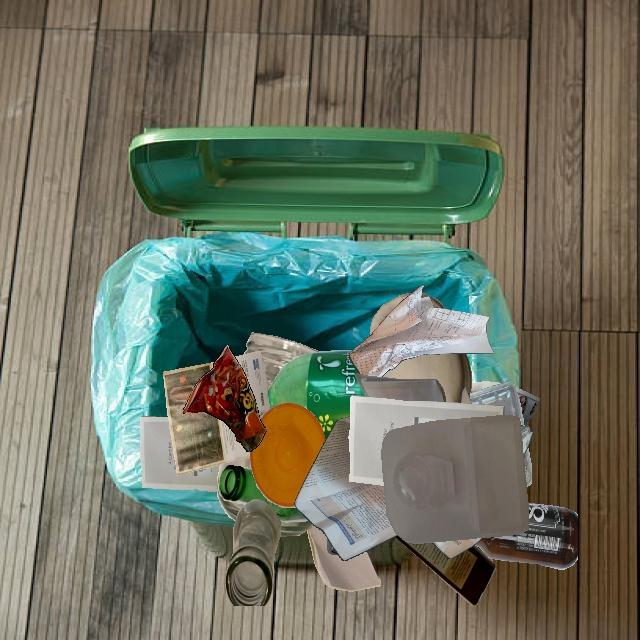cardboard: (395, 535, 495, 606)
glass: (220, 353, 280, 521), (474, 503, 578, 569), (225, 499, 280, 606), (218, 465, 309, 522), (246, 333, 319, 390), (280, 521, 313, 536)
paper: (349, 388, 526, 542), (295, 421, 398, 560), (348, 395, 504, 485), (349, 286, 494, 377), (163, 362, 250, 475), (470, 393, 520, 559), (140, 416, 220, 492), (307, 524, 380, 592), (378, 297, 447, 356), (381, 356, 462, 403), (355, 373, 446, 402)
plastic: (381, 415, 528, 543), (267, 350, 366, 440), (250, 403, 326, 507), (469, 382, 524, 426), (327, 538, 338, 555)
trash: (183, 346, 267, 452)
